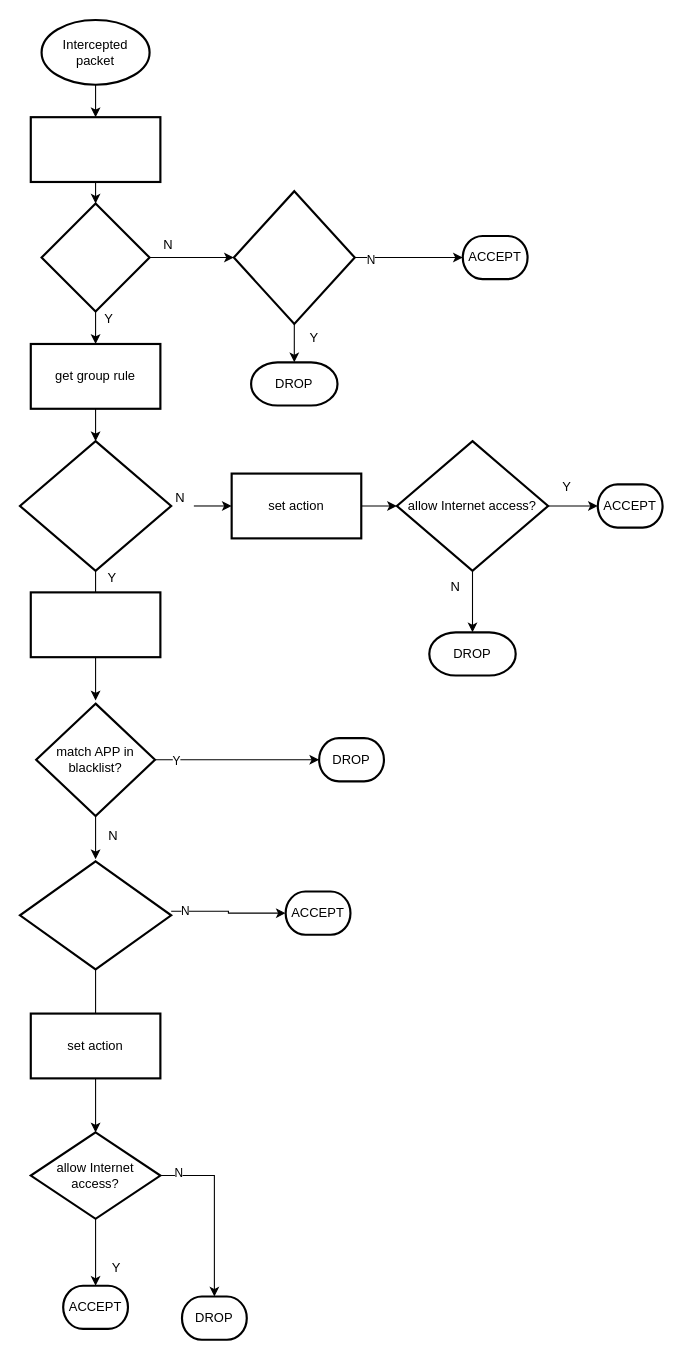
Some shapes in this 681 by 1359 pixel diagram are drawn without their labels. Here are the shapes that lost their labels. From the top down, the box of each, then its label:
(29, 116, 161, 183): Get source MAC
(40, 202, 150, 312): group match？
(232, 190, 355, 325): drop anonymous devices?
(18, 440, 172, 571): rule need APP match？
(29, 591, 161, 658): DPI
(18, 860, 172, 970): match APP in rule?
